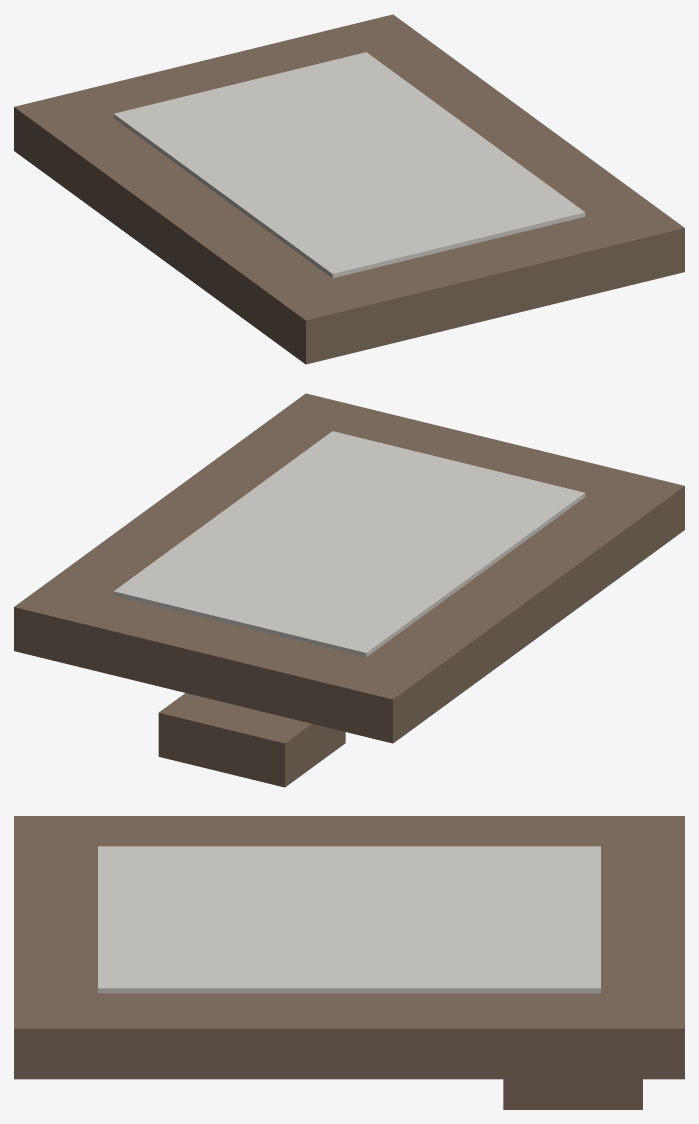
Rendered from picture_frame.glb.
3 views of the same model, one above another, from view 1: azimuth 30°, elevation 25°; view 2: azimuth 150°, elevation 25°; view 3: azimuth 270°, elevation 25° (orthographic). The views are drawn at different scales.
Parts seen in each view (by area): view 1: world; view 2: world; view 3: world.
Part boxes in pixels (x1,y1,x2,y2): world: (14,14,684,364); world: (14,393,684,787); world: (14,816,684,1109).
Bounding box in the file's own units: 0.18 × 0.062 × 0.24.
